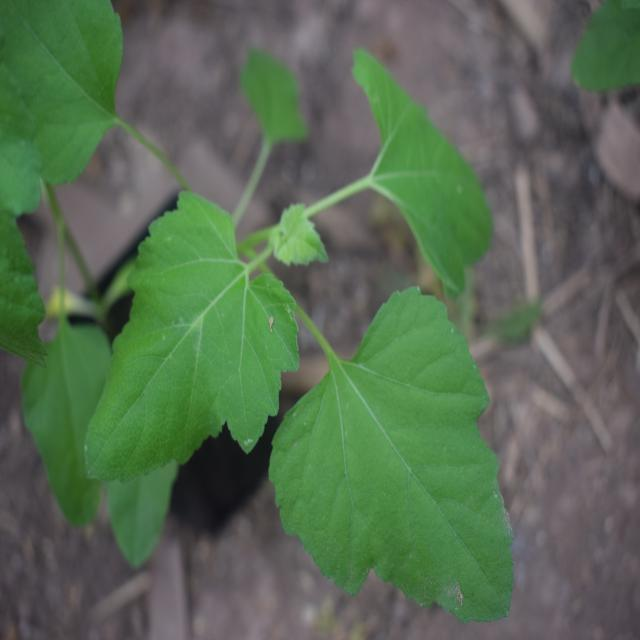cocklebur: (15, 0, 529, 553)
